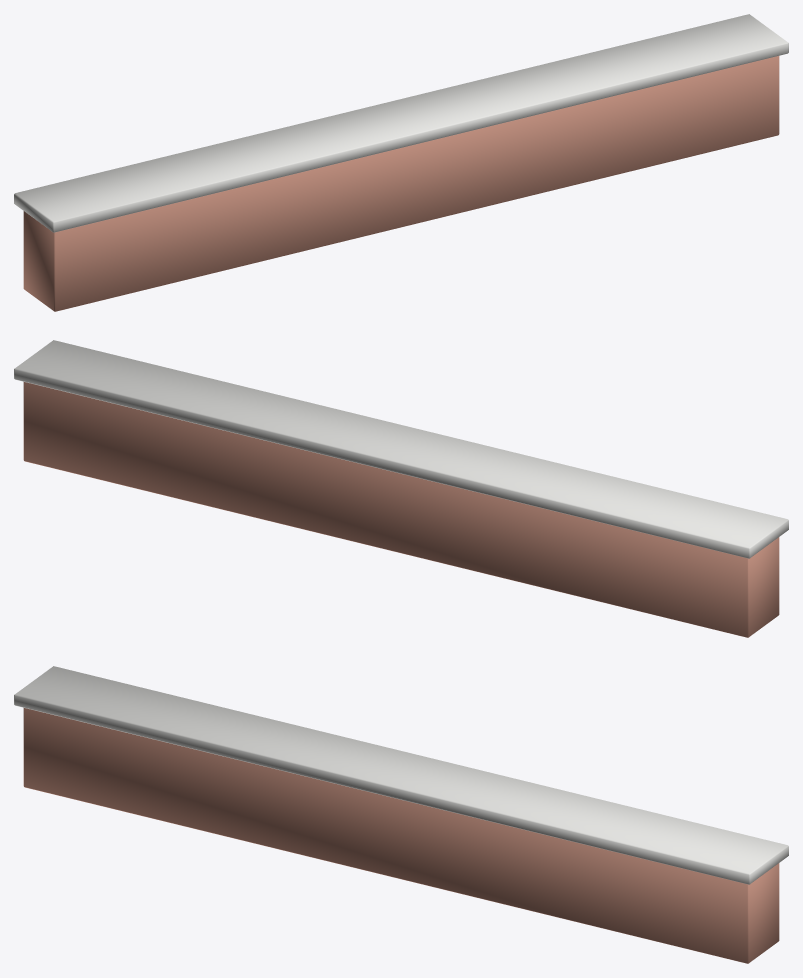
The model's file is Brick_Parapet.fbx.
The picture shows the model from 3 angles, top to bottom: view 1: azimuth 30°, elevation 25°; view 2: azimuth 150°, elevation 25°; view 3: azimuth 330°, elevation 25°; orthographic projection.
Visible parts, largest first — view 1: LOD0; view 2: LOD0; view 3: LOD0.
Part boxes in pixels (box(x1,y1,x2,y2)): LOD0: box(14, 14, 788, 311); LOD0: box(14, 340, 788, 637); LOD0: box(14, 666, 788, 963).
Size of what is drawn, in the model's own units: 406 by 50 by 38.
